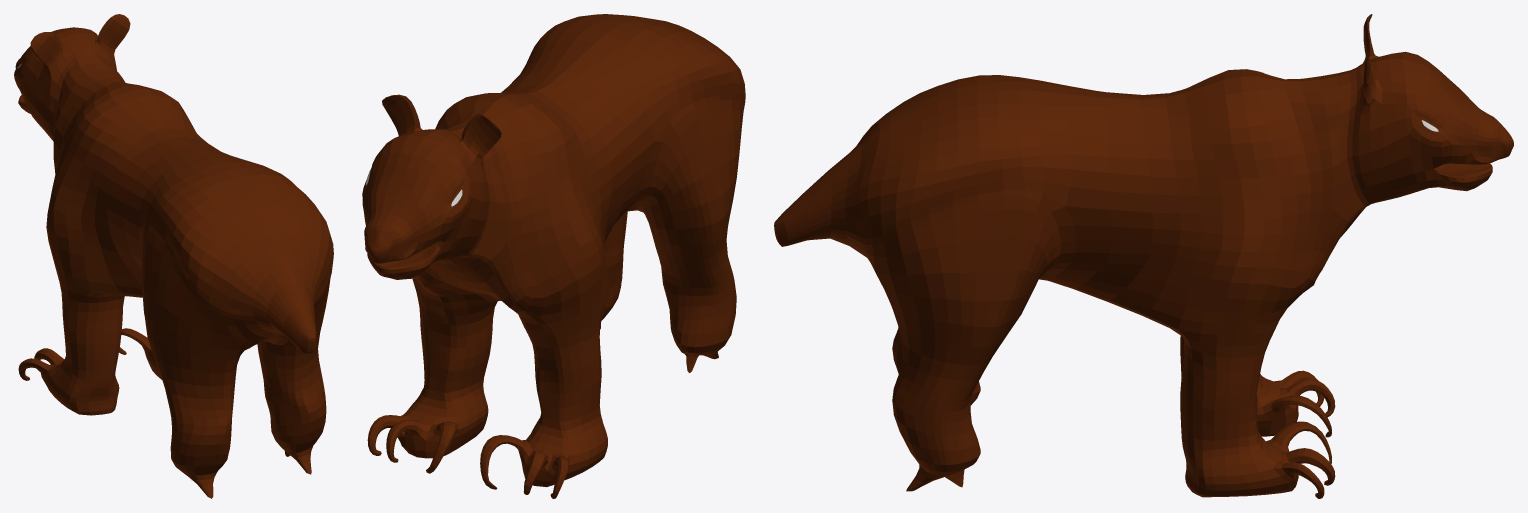
File: Bear1.fbx
3 views of the same model, side by side, from view 1: azimuth 30°, elevation 25°; view 2: azimuth 150°, elevation 25°; view 3: azimuth 270°, elevation 25° (orthographic). The views are drawn at different scales.
Visible parts, largest first — view 1: Polygon; view 2: Polygon; view 3: Polygon.
Boxes of the visible parts, left/top/right/bottom form: Polygon: left=14, top=14, right=333, bottom=498; Polygon: left=362, top=14, right=745, bottom=498; Polygon: left=774, top=14, right=1513, bottom=498.
Bounding box in the file's own units: 45.96 × 89.06 × 141.
